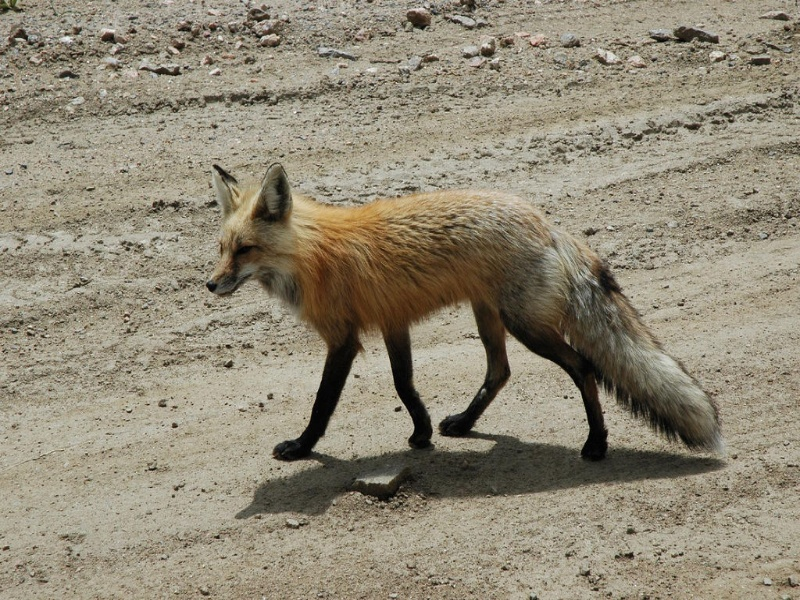fox: (197, 157, 732, 474)
